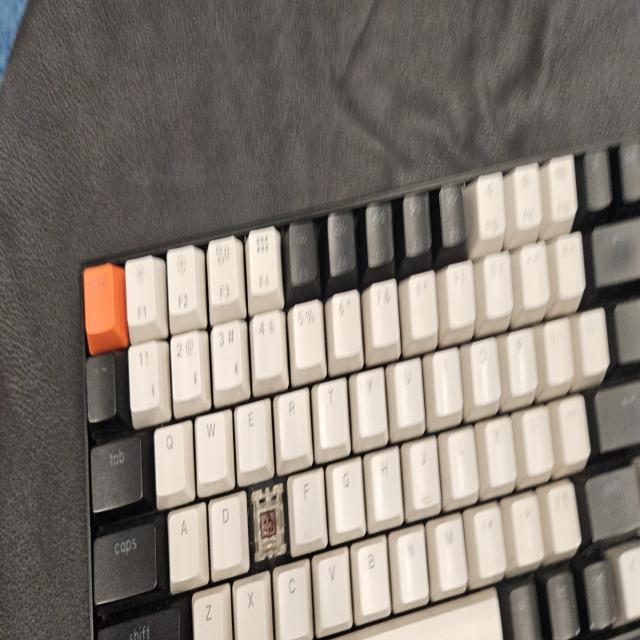C: (256, 499, 282, 554)
